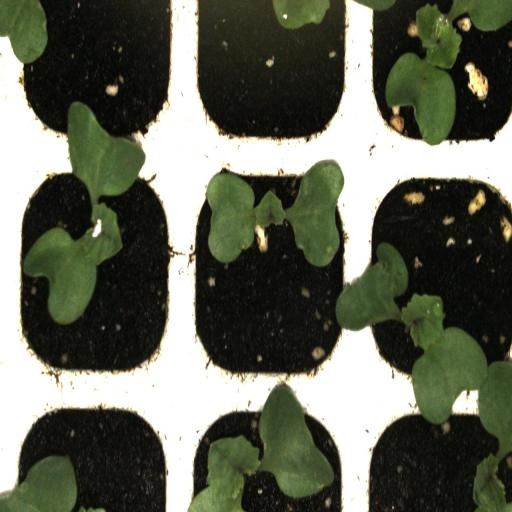Folha: (0, 455, 78, 512), (0, 0, 48, 64), (272, 0, 332, 50)
Germinacao: (178, 158, 354, 388), (12, 157, 176, 388), (356, 156, 512, 394), (356, 0, 512, 152), (178, 394, 355, 512)
